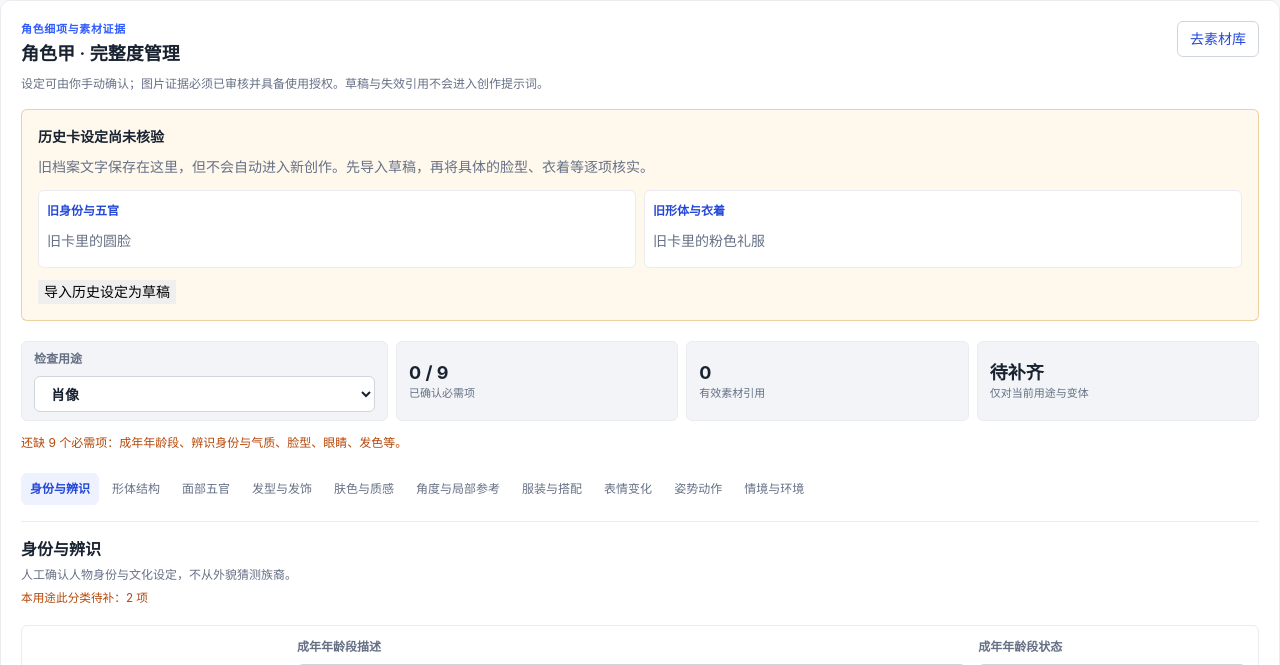
Test: 历史人物卡明确显示未核验来源，可一键搬入待确认细项而不冒充已确认设定
Expected: the text "历史卡设定尚未核验" is shown, [38,128,164,145]
What coordinates should you click on to do the following:
click the button "导入历史设定为草稿"
I would click on:
 (107, 292)
Its box is [38,280,176,304].
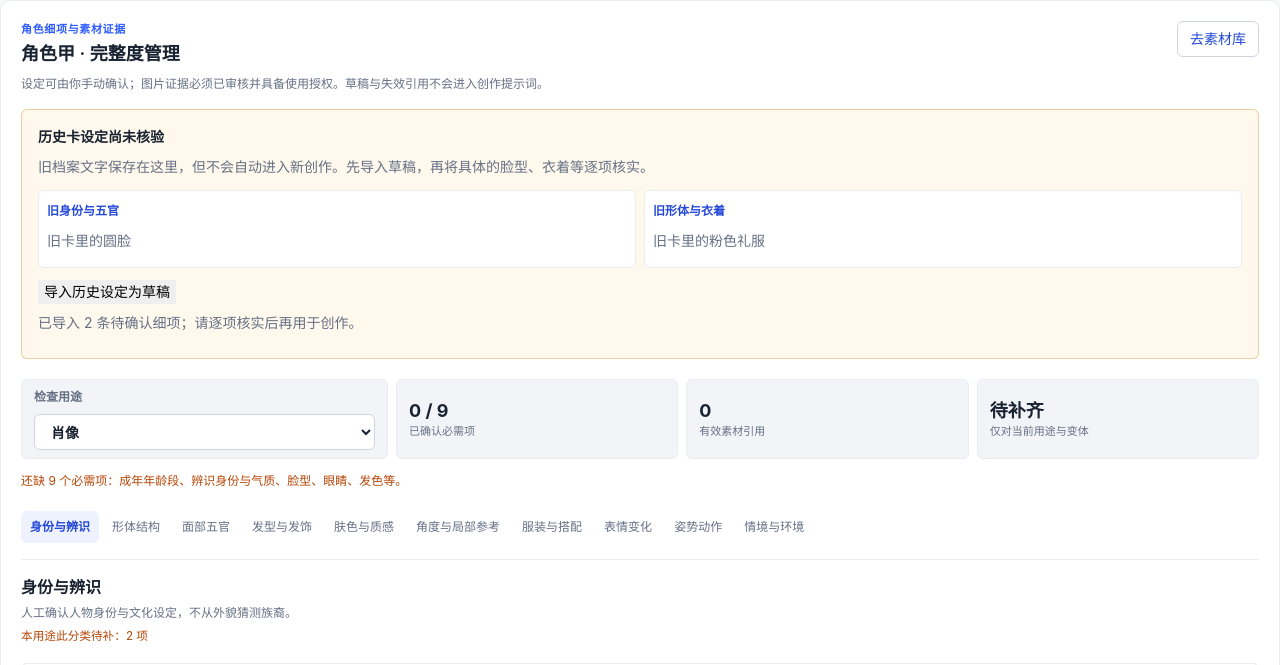
Now the text "已导入 2 条待确认细项；请逐项核实后再用于创作。" is shown, box [38,314,362,331]
